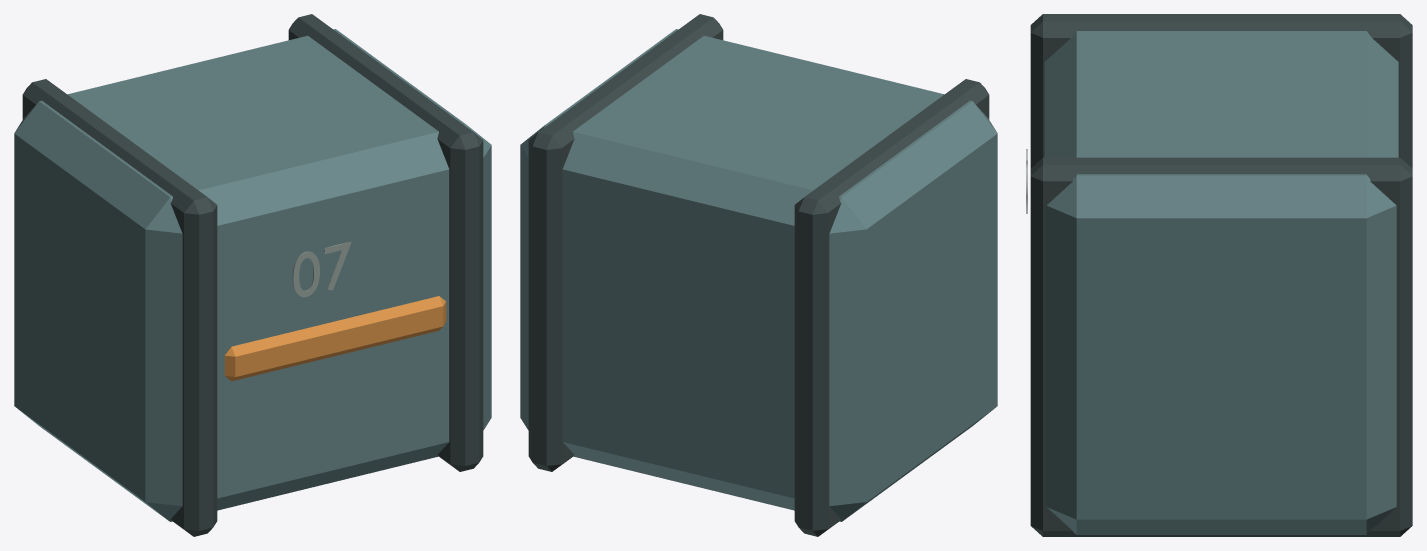
The model's file is Cargo_Crate.glb.
3 renders of one model, left to right at view 1: azimuth 30°, elevation 25°; view 2: azimuth 150°, elevation 25°; view 3: azimuth 270°, elevation 25°, orthographic. The views are drawn at different scales.
Visible parts, largest first — view 1: Cargo_Crate; view 2: Cargo_Crate; view 3: Cargo_Crate.
Boxes of the visible parts, x1,y1,x2,y2 form: Cargo_Crate: (14,14,491,536); Cargo_Crate: (520,14,997,536); Cargo_Crate: (1026,14,1412,536).
Bounding box in the file's own units: 1.25 × 1.16 × 1.09.
